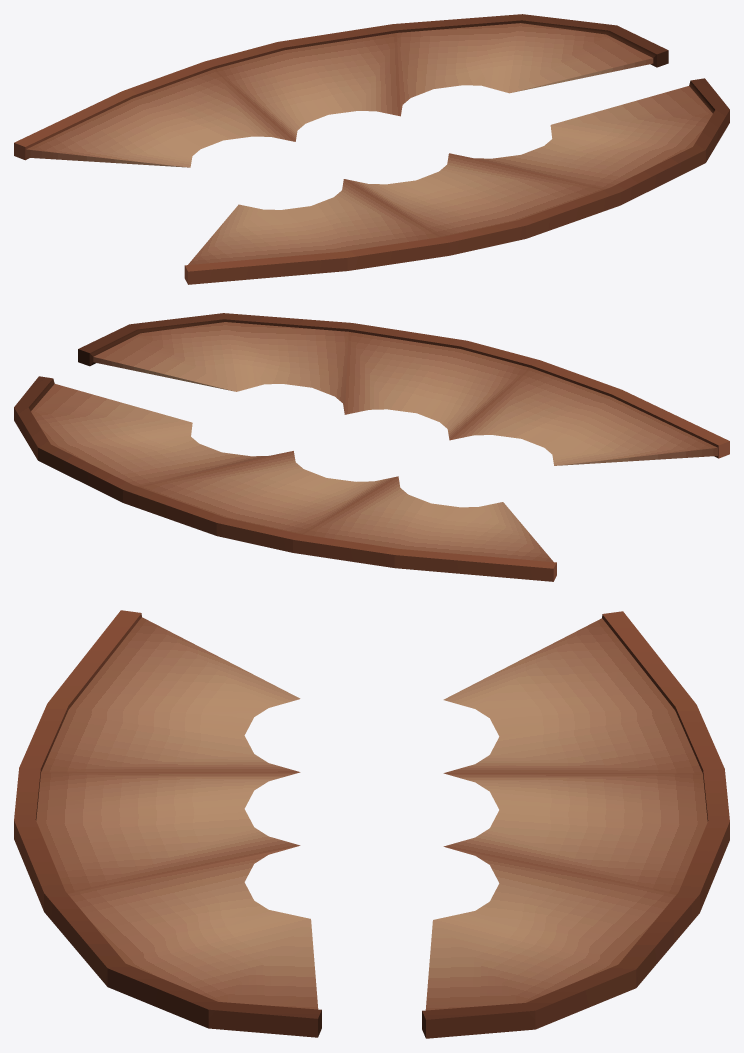
File: VeniceV2_Power1.glb
3 renders of one model, top to bottom at view 1: azimuth 30°, elevation 25°; view 2: azimuth 150°, elevation 25°; view 3: azimuth 270°, elevation 25°, orthographic. The views are drawn at different scales.
Parts seen in each view (by area): view 1: R_wing, L_wing; view 2: L_wing, R_wing; view 3: R_wing, L_wing.
Boxes of the visible parts, left/top/right/bottom form: R_wing: left=14, top=14, right=668, bottom=167; L_wing: left=184, top=78, right=729, bottom=284; L_wing: left=78, top=313, right=729, bottom=465; R_wing: left=14, top=376, right=556, bottom=581; R_wing: left=422, top=611, right=729, bottom=1038; L_wing: left=14, top=610, right=321, bottom=1037.
Size of the model in its own units: 7.74 by 0.1665 by 5.72.
Materials: 1 (1 with a texture image).
